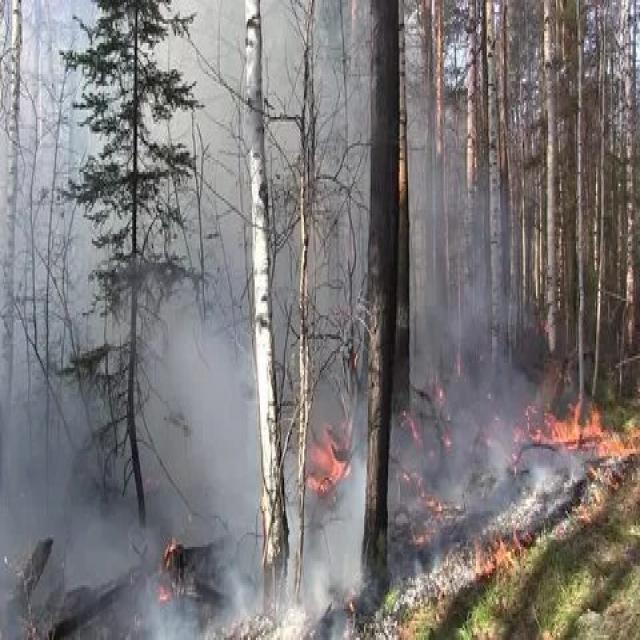Fire: (505, 360, 640, 492)
Smoke: (0, 0, 517, 640)
